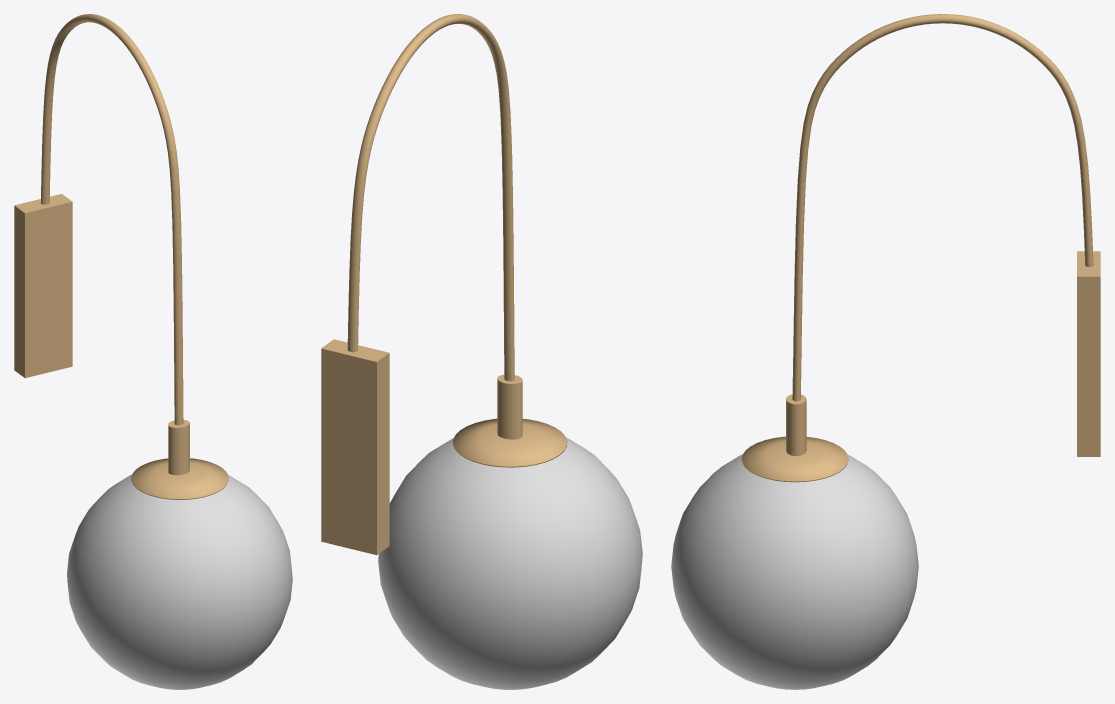
File: light3.fbx
The picture shows the model from 3 angles, left to right: view 1: azimuth 30°, elevation 25°; view 2: azimuth 150°, elevation 25°; view 3: azimuth 270°, elevation 25°; orthographic projection. The views are drawn at different scales.
Visible parts, largest first — view 1: Sphere, Cube, Torus.001, Sphere.001, Cylinder; view 2: Sphere, Cube, Torus.001, Sphere.001, Cylinder; view 3: Sphere, Torus.001, Cube, Sphere.001, Cylinder.
Boxes of the visible parts, <box> form: Sphere: <box>67,474,292,689</box>; Cube: <box>14,194,72,378</box>; Torus.001: <box>41,14,183,425</box>; Sphere.001: <box>131,458,228,499</box>; Cylinder: <box>168,420,189,475</box>; Sphere: <box>378,437,642,689</box>; Cube: <box>321,339,389,555</box>; Torus.001: <box>347,14,514,381</box>; Sphere.001: <box>453,418,567,467</box>; Cylinder: <box>497,374,522,439</box>; Sphere: <box>671,454,918,689</box>; Torus.001: <box>792,14,1093,401</box>; Cube: <box>1077,251,1100,456</box>; Sphere.001: <box>741,436,848,482</box>; Cylinder: <box>786,394,806,455</box>.
Size of the model in its own units: 140 by 414 by 243.
